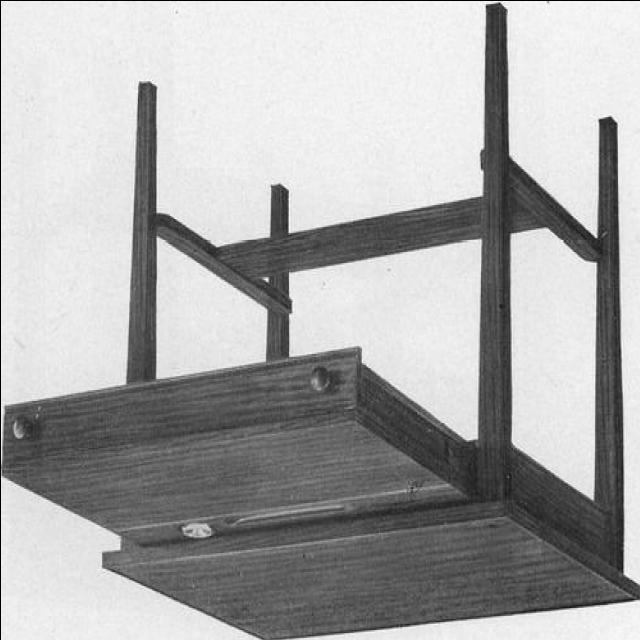table: (1, 3, 636, 639)
